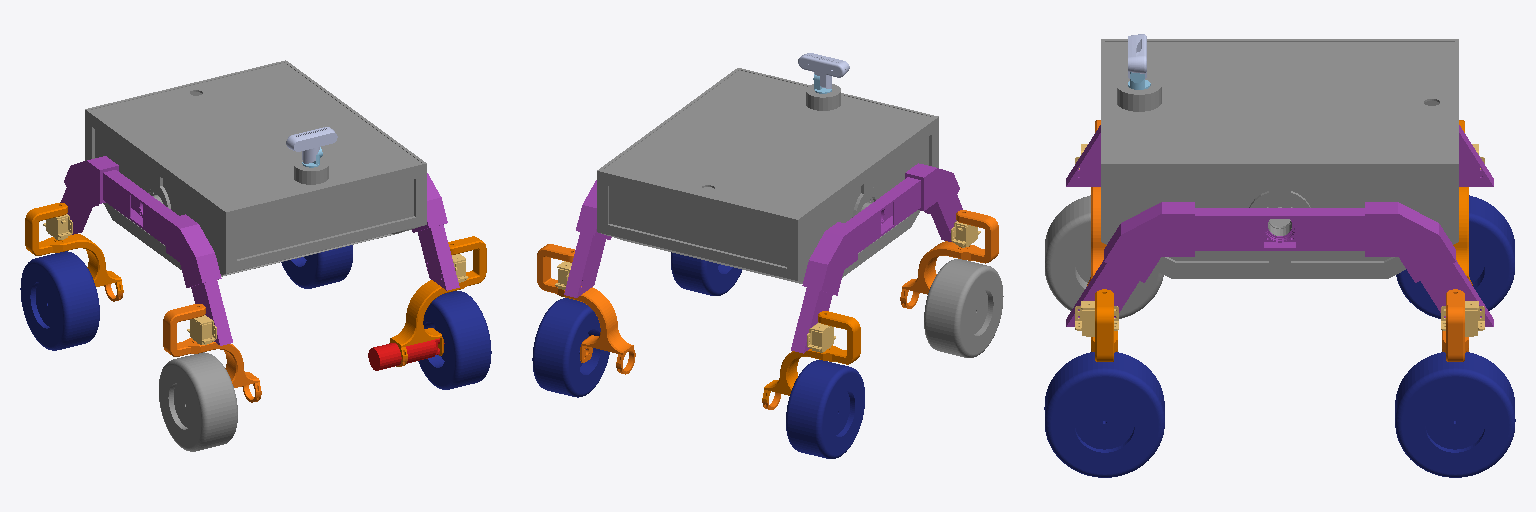
--- Render facts (derived) ---
The picture shows the robot from 3 angles, left to right: view 1: azimuth 30°, elevation 25°; view 2: azimuth 150°, elevation 25°; view 3: azimuth 270°, elevation 25°; orthographic projection.
Robot: rover — 26 links, 25 joints (8 revolute, 4 continuous, 13 fixed); root link base_link; default pose: every joint at zero.
Visible links, largest first — view 1: body, right_rocker, br_whl, fr_whl, fl_whl, fl_steer, br_steer, left_rocker, fr_steer, bl_whl, fl_motor, rs_camera (+2 smaller); view 2: body, right_rocker, fr_whl, br_whl, bl_whl, bl_steer, fr_steer, left_rocker, br_steer, fl_whl, rs_camera, br_servo (+1 smaller); view 3: body, left_rocker, bl_whl, fl_whl, br_whl, fr_whl, right_rocker, fl_steer, bl_steer, fr_steer, br_steer, fl_servo (+2 smaller).
Link boxes in pixels (x1,y1,x2,y2): body: (85, 60, 426, 276); right_rocker: (60, 156, 232, 345); br_whl: (20, 251, 99, 350); fr_whl: (159, 352, 237, 451); fl_whl: (418, 291, 491, 389); fl_steer: (389, 236, 486, 358); br_steer: (25, 203, 123, 292); left_rocker: (412, 173, 459, 290); fr_steer: (163, 304, 261, 393); bl_whl: (281, 245, 352, 288); fl_motor: (368, 338, 444, 370); rs_camera: (286, 127, 337, 163); body: (597, 68, 938, 283); right_rocker: (791, 163, 962, 353); fr_whl: (924, 259, 1003, 357); br_whl: (786, 360, 864, 458); bl_whl: (532, 298, 609, 397); bl_steer: (537, 244, 635, 365); fr_steer: (900, 210, 998, 300); left_rocker: (564, 180, 611, 297); br_steer: (762, 311, 860, 401); fl_whl: (671, 252, 741, 295); rs_camera: (798, 53, 849, 88); br_servo: (807, 322, 835, 352); body: (1101, 39, 1458, 278); left_rocker: (1066, 202, 1493, 326); bl_whl: (1395, 352, 1515, 477); fl_whl: (1044, 352, 1164, 477); br_whl: (1396, 195, 1514, 318); fr_whl: (1045, 195, 1163, 318); right_rocker: (1066, 125, 1493, 186); fl_steer: (1091, 289, 1117, 361); bl_steer: (1442, 289, 1468, 361); fr_steer: (1087, 120, 1106, 285); br_steer: (1453, 120, 1472, 285); fl_servo: (1075, 301, 1118, 336).
Bounding box of the posed robot: 0.6178 × 0.6262 × 0.5061 m (x, y, z).
Meshes: 25 distinct files referenced, 22 mesh visuals loaded (22 binary STL); not drawn: 3 (reference not matched to a file when rendering).

The robot description file, URDF, robot "rover":
<robot name="rover">
<link name="base_link"></link>
<joint name="base_link_to_base" type="fixed">
<parent link="base_link"/>
<child link="body" />
<origin rpy="0.0 0 0" xyz="0 0 0"/>
</joint>
<link name="body">
<visual>
<origin xyz="0.47136771400569088541 -0.60607071399829648417 0.26237109907984434987" rpy="-1.5707963267948952257 -2.20865769322149327e-16 3.1415926535897922278" />
<geometry>
<mesh filename="package://rover_description/rover_desc/parts/body.stl"/>
</geometry>
<material name="body_material">
<color rgba="0.62745098039215685404 0.62745098039215685404 0.62745098039215685404 1.0"/>
</material>
</visual>
<collision>
<origin xyz="0.47136771400569088541 -0.60607071399829648417 0.26237109907984434987" rpy="-1.5707963267948952257 -2.20865769322149327e-16 3.1415926535897922278" />
<geometry>
<mesh filename="package://rover_description/rover_desc/parts/body.stl"/>
</geometry>
</collision>
<inertial>
<origin xyz="0.28136771291347772994 -0.46928583804782286748 0.35945855405890986267" rpy="0 0 0"/>
<mass value="15.306299737924760507" />
<inertia ixx="0.44930929531785673836" ixy="1.9260696911256379374e-10"  ixz="-1.4462254077242153112e-09" iyy="0.3755485581251944982" iyz="0.0061140796338642602534" izz="0.69491924772627433615" />
</inertial>
</link>

<link name="left_rocker">
<visual>
<origin xyz="0.07816000000000011827 0.14200000000000040368 0.01800000000000012701" rpy="-1.570796326794896558 -1.5707963267948950037 0" />
<geometry>
<mesh filename="package://rover_description/rover_desc/parts/left_rocker.stl"/>
</geometry>
<material name="left_rocker_material">
<color rgba="0.68235294117647060652 0.33333333333333331483 0.73725490196078435901 1.0"/>
</material>
</visual>
<collision>
<origin xyz="0.07816000000000011827 0.14200000000000040368 0.01800000000000012701" rpy="-1.570796326794896558 -1.5707963267948950037 0" />
<geometry>
<mesh filename="package://rover_description/rover_desc/parts/left_rocker.stl"/>
</geometry>
</collision>
<inertial>
<origin xyz="0.019843209810583545272 -1.0071465883498831317e-10 -0.012593799220476003045" rpy="0 0 0"/>
<mass value="3.1599156804225110307" />
<inertia ixx="0.091997687781411832675" ixy="3.6592888715037112843e-11"  ixz="6.659101460762155284e-06" iyy="0.004598888821739771475" iyz="3.1871326878887297605e-13" izz="0.095584816217209836453" />
</inertial>
</link>

<link name="fl_servo">
<visual>
<origin xyz="-0.034073937586584723825 -0.077213843876329901761 0.04340000000000010516" rpy="-1.570796326794896558 -1.5707963267948954478 0" />
<geometry>
<mesh filename="package://rover_description/rover_desc/parts/fl_servo.stl"/>
</geometry>
<material name="fl_servo_material">
<color rgba="0.95294117647058818044 0.79607843137254896693 0.48627450980392156188 1.0"/>
</material>
</visual>
<collision>
<origin xyz="-0.034073937586584723825 -0.077213843876329901761 0.04340000000000010516" rpy="-1.570796326794896558 -1.5707963267948954478 0" />
<geometry>
<mesh filename="package://rover_description/rover_desc/parts/fl_servo.stl"/>
</geometry>
</collision>
<inertial>
<origin xyz="0.0079700947515648021963 0.023817007874858658889 -0.01221139744219802703" rpy="0 0 0"/>
<mass value="0.30095826250826990256" />
<inertia ixx="6.1515020750386702544e-05" ixy="4.1386348707447931385e-07"  ixz="1.2153545413687051788e-06" iyy="5.6400683761713585557e-05" iyz="-7.0967198374895875585e-08" izz="9.1372734015628923228e-05" />
</inertial>
</link>

<link name="fl_steer">
<visual>
<origin xyz="0.056900000000000117151 -0.091013843876329714178 0.06867393758658507652" rpy="-1.570796326794901443 9.7218023302443306324e-16 -5.994478756176578597e-19" />
<geometry>
<mesh filename="package://rover_description/rover_desc/parts/fl_steer.stl"/>
</geometry>
<material name="fl_steer_material">
<color rgba="0.97254901960784312376 0.52941176470588235947 0.0039215686274509803377 1.0"/>
</material>
</visual>
<collision>
<origin xyz="0.056900000000000117151 -0.091013843876329714178 0.06867393758658507652" rpy="-1.570796326794901443 9.7218023302443306324e-16 -5.994478756176578597e-19" />
<geometry>
<mesh filename="package://rover_description/rover_desc/parts/fl_steer.stl"/>
</geometry>
</collision>
<inertial>
<origin xyz="0.021796088565620361233 -3.4269795932961866214e-07 -0.022257353183229796473" rpy="0 0 0"/>
<mass value="1.3486655156843314618" />
<inertia ixx="0.0036322882753136651046" ixy="-1.3750609455616861351e-08"  ixz="0.0026697404360839153796" iyy="0.0068253606450100574518" iyz="4.2296529827087859375e-08" izz="0.0034338949276419457324" />
</inertial>
</link>

<link name="fl_motor">
<visual>
<origin xyz="-0.028999999999999998002 0.0029999999999998916422 -0.11825000000000002176" rpy="1.570796326794896558 1.3082735639018536247e-31 2.3166166839792665514e-31" />
<geometry>
<mesh filename="package://rover_description/rover_desc/parts/fl_motor.stl"/>
</geometry>
<material name="fl_motor_material">
<color rgba="0.86666666666666669627 0.13333333333333333148 0.13333333333333333148 1.0"/>
</material>
</visual>
<collision>
<origin xyz="-0.028999999999999998002 0.0029999999999998916422 -0.11825000000000002176" rpy="1.570796326794896558 1.3082735639018536247e-31 2.3166166839792665514e-31" />
<geometry>
<mesh filename="package://rover_description/rover_desc/parts/fl_motor.stl"/>
</geometry>
</collision>
<inertial>
<origin xyz="0.0081633417621368303818 -0.0080748979523885579257 -0.063711508697810795288" rpy="0 0 0"/>
<mass value="1.1669635249832903678" />
<inertia ixx="0.0014435661258087525982" ixy="2.7173683331508127415e-09"  ixz="5.1318365618334379616e-07" iyy="0.001445612962137695235" iyz="-2.4540570541830685958e-07" izz="0.00022941596317910240531" />
</inertial>
</link>

<link name="fl_whl">
<visual>
<origin xyz="-0.18104393758658482438 -0.091013843608109601391 0.050899999999998557509" rpy="-1.57079632679489678 -1.570796326794891451 0" />
<geometry>
<mesh filename="package://rover_description/rover_desc/parts/fl_whl.stl"/>
</geometry>
<material name="fl_whl_material">
<color rgba="0.18823529411764705621 0.2313725490196078538 0.58823529411764707842 1.0"/>
</material>
</visual>
<collision>
<origin xyz="-0.18104393758658482438 -0.091013843608109601391 0.050899999999998557509" rpy="-1.57079632679489678 -1.570796326794891451 0" />
<geometry>
<mesh filename="package://rover_description/rover_desc/parts/fl_whl.stl"/>
</geometry>
</collision>
<inertial>
<origin xyz="-2.160203217361789686e-17 1.1102230246251565404e-16 -0.0070773280698739615691" rpy="0 0 0"/>
<mass value="1.3365750692679565503" />
<inertia ixx="0.0028294242240586753474" ixy="-2.105515765160912049e-19"  ixz="4.2737915832657767856e-18" iyy="0.0028294242240586723117" iyz="8.5401594529778479727e-18" izz="0.0046912485783696085753" />
</inertial>
</link>

<joint name="fl_wheel" type="continuous">
<origin xyz="0.007999999999999840572 -0.0080000000000001181277 0.02349999999999990985" rpy="-3.141592653589793116 -1.5549036287990586881e-16 2.5563346814630962811" />
<parent link="fl_motor" />
<child link="fl_whl" />
<axis xyz="0 0 1"/>
<limit effort="1" velocity="20" />
<joint_properties friction="0.0"/>
</joint>

<joint name="FL_Motor2Mount" type="fixed">
<origin xyz="0.029500000000000803357 -0.0080000002682207860261 -0.10437000000000037914" rpy="-3.1415926535897926719 1.570796326794891451 0" />
<parent link="fl_steer" />
<child link="fl_motor" />
<axis xyz="0 0 1"/>
<limit effort="1" velocity="20" />
<joint_properties friction="0.0"/>
</joint>

<link name="fl_clamp">
<visual>
<origin xyz="-0.047600000000000530775 -0.11250057860073059413 0.18179393758658518587" rpy="-1.5707963267949001107 2.2947746081961748487e-15 -5.9944787561821464605e-19" />
<geometry>
<mesh filename="package://rover_description/rover_desc/parts/fl_clamp.stl"/>
</geometry>
<material name="fl_clamp_material">
<color rgba="1 0.52156862745098042655 0.10196078431372548878 1.0"/>
</material>
</visual>
<collision>
<origin xyz="-0.047600000000000530775 -0.11250057860073059413 0.18179393758658518587" rpy="-1.5707963267949001107 2.2947746081961748487e-15 -5.9944787561821464605e-19" />
<geometry>
<mesh filename="package://rover_description/rover_desc/parts/fl_clamp.stl"/>
</geometry>
</collision>
<inertial>
<origin xyz="-1.0621386895004469864e-09 -0.02148614273903139138 -0.013953120641351908493" rpy="0 0 0"/>
<mass value="0.023562966261883394603" />
<inertia ixx="5.8649646333848643427e-06" ixy="8.0054195219834029265e-12"  ixz="1.2846874940053397286e-12" iyy="1.1647538922670263761e-06" iyz="-1.2018458141571284546e-10" izz="5.1248936208296145517e-06" />
</inertial>
</link>

<joint name="FL_Clamp2Mount" type="fixed">
<origin xyz="0.10450000000000092548 0.021486734724400546881 -0.11162000000000023292" rpy="-1.319148741867446339e-15 -1.3225943751717406021e-15 -5.9944787561891125491e-19" />
<parent link="fl_steer" />
<child link="fl_clamp" />
<axis xyz="0 0 1"/>
<limit effort="1" velocity="20" />
<joint_properties friction="0.0"/>
</joint>

<joint name="FL_Steer2Servo" type="revolute">
<origin xyz="0.034599999999999908606 0.013800000000000367528 -0.013500000000000067502" rpy="-1.570796326794782205 -1.5667839918887109807 1.5707963267950979525" />
<parent link="fl_servo" />
<child link="fl_steer" />
<axis xyz="0 0 1"/>
<limit effort="1" velocity="20" lower="-1.0471975511965976313" upper="1.0471975511965976313"/>
<joint_properties friction="0.0"/>
</joint>

<joint name="FL_Servo2Rocker" type="fixed">
<origin xyz="0.11223393758658459229 0.21921384387633152668 -0.025399999999999589573" rpy="-8.6258250460619437346e-16 1.4251748903082753542e-15 2.3665827156630343653e-30" />
<parent link="left_rocker" />
<child link="fl_servo" />
<axis xyz="0 0 1"/>
<limit effort="1" velocity="20" />
<joint_properties friction="0.0"/>
</joint>

<link name="bl_servo">
<visual>
<origin xyz="-0.034073937586588332049 0.36121384387633082014 0.043400000000000493738" rpy="-1.570796326794896558 -1.5707963267948950037 0" />
<geometry>
<mesh filename="package://rover_description/rover_desc/parts/bl_servo.stl"/>
</geometry>
<material name="bl_servo_material">
<color rgba="0.95294117647058818044 0.79607843137254896693 0.48627450980392156188 1.0"/>
</material>
</visual>
<collision>
<origin xyz="-0.034073937586588332049 0.36121384387633082014 0.043400000000000493738" rpy="-1.570796326794896558 -1.5707963267948950037 0" />
<geometry>
<mesh filename="package://rover_description/rover_desc/parts/bl_servo.stl"/>
</geometry>
</collision>
<inertial>
<origin xyz="0.0079700947515649375047 -0.023817007874858686645 -0.012211397442197985397" rpy="0 0 0"/>
<mass value="0.30095826250826979154" />
<inertia ixx="6.1515020750386743202e-05" ixy="-4.1386348707453161814e-07"  ixz="1.2153545413686098876e-06" iyy="5.6400683761713585557e-05" iyz="7.0967198374668407534e-08" izz="9.137273401562899099e-05" />
</inertial>
</link>

<link name="bl_steer">
<visual>
<origin xyz="0.056900000000000006128 0.3750138438763308546 0.068673937586589045567" rpy="-1.5707963267948947816 1.0259804808888001859e-15 -2.4436268924397289004e-19" />
<geometry>
<mesh filename="package://rover_description/rover_desc/parts/bl_steer.stl"/>
</geometry>
<material name="bl_steer_material">
<color rgba="1 0.52156862745098042655 0.10196078431372548878 1.0"/>
</material>
</visual>
<collision>
<origin xyz="0.056900000000000006128 0.3750138438763308546 0.068673937586589045567" rpy="-1.5707963267948947816 1.0259804808888001859e-15 -2.4436268924397289004e-19" />
<geometry>
<mesh filename="package://rover_description/rover_desc/parts/bl_steer.stl"/>
</geometry>
</collision>
<inertial>
<origin xyz="0.021796088565502191869 4.2836195762729900594e-07 -0.022257353183248035355" rpy="0 0 0"/>
<mass value="1.3486655156810449796" />
<inertia ixx="0.0036322882752310740526" ixy="8.9151877740377827898e-09"  ixz="0.0026697404360826520672" iyy="0.0068253606450098848468" iyz="-3.3253112102164279405e-08" izz="0.0034338949275451989031" />
</inertial>
</link>

<link name="bl_motor">
<visual>
<origin xyz="-0.029000000000000011879 0.0030000000000000026645 -0.11825000000000002176" rpy="1.570796326794896558 2.9971166839778787761e-31 7.9663902531419949807e-31" />
<geometry>
<mesh filename="package://rover_description/rover_desc/parts/bl_motor.stl"/>
</geometry>
<material name="bl_motor_material">
<color rgba="0.86666666666666669627 0.13333333333333333148 0.13333333333333333148 1.0"/>
</material>
</visual>
<collision>
<origin xyz="-0.029000000000000011879 0.0030000000000000026645 -0.11825000000000002176" rpy="1.570796326794896558 2.9971166839778787761e-31 7.9663902531419949807e-31" />
<geometry>
<mesh filename="package://rover_description/rover_desc/parts/bl_motor.stl"/>
</geometry>
</collision>
<inertial>
<origin xyz="0.0081633417621368095651 -0.0080748979523884486381 -0.063711508697810795288" rpy="0 0 0"/>
<mass value="1.1669635249832905899" />
<inertia ixx="0.0014435661258087525982" ixy="2.717368333151023259e-09"  ixz="5.1318365618334316088e-07" iyy="0.0014456129621376954519" iyz="-2.4540570541830273029e-07" izz="0.0002294159631791023782" />
</inertial>
</link>

<link name="bl_whl">
<visual>
<origin xyz="-0.18104393758658793301 0.37501384414455318783 0.050899999999998557509" rpy="-1.570796326794896558 -1.5707963267948921171 0" />
<geometry>
<mesh filename="package://rover_description/rover_desc/parts/bl_whl.stl"/>
</geometry>
<material name="bl_whl_material">
<color rgba="0.18823529411764705621 0.2313725490196078538 0.58823529411764707842 1.0"/>
</material>
</visual>
<collision>
<origin xyz="-0.18104393758658793301 0.37501384414455318783 0.050899999999998557509" rpy="-1.570796326794896558 -1.5707963267948921171 0" />
<geometry>
<mesh filename="package://rover_description/rover_desc/parts/bl_whl.stl"/>
</geometry>
</collision>
<inertial>
<origin xyz="-1.9588095409920598454e-18 -1.1102230246251565404e-16 -0.0070773280698739138642" rpy="0 0 0"/>
<mass value="1.3365750692679561062" />
<inertia ixx="0.0028294242240586740464" ixy="-2.9773130229605206514e-19"  ixz="1.9080636541646461541e-18" iyy="0.002829424224058671878" iyz="8.358251220424872002e-18" izz="0.004691248578369607708" />
</inertial>
</link>

<joint name="bl_wheel" type="continuous">
<origin xyz="0.0079999999999999793499 -0.0079999999999999793499 0.023499999999999965361" rpy="3.141592653589793116 -8.3323822686780798524e-16 2.5563346814631509041" />
<parent link="bl_motor" />
<child link="bl_whl" />
<axis xyz="0 0 1"/>
<limit effort="1" velocity="20" />
<joint_properties friction="0.0"/>
</joint>

<joint name="BL_Motor2Mount" type="fixed">
<origin xyz="0.029500000000000137224 -0.0080000002682207582705 -0.10436999999999960198" rpy="-3.1415926535897922278 1.5707963267948943376 0" />
<parent link="bl_steer" />
<child link="bl_motor" />
<axis xyz="0 0 1"/>
<limit effort="1" velocity="20" />
<joint_properties friction="0.0"/>
</joint>

<link name="bl_clamp">
<visual>
<origin xyz="-0.047599999999999975664 0.3535271091519306963 0.18179393758658765612" rpy="-1.5707963267948972241 2.2462499910870149937e-15 -2.2080949860496520738e-19" />
<geometry>
<mesh filename="package://rover_description/rover_desc/parts/bl_clamp.stl"/>
</geometry>
<material name="bl_clamp_material">
<color rgba="1 0.52156862745098042655 0.10196078431372548878 1.0"/>
</material>
</visual>
<collision>
<origin xyz="-0.047599999999999975664 0.3535271091519306963 0.18179393758658765612" rpy="-1.5707963267948972241 2.2462499910870149937e-15 -2.2080949860496520738e-19" />
<geometry>
<mesh filename="package://rover_description/rover_desc/parts/bl_clamp.stl"/>
</geometry>
</collision>
<inertial>
<origin xyz="-1.0621386270504018512e-09 -0.021486142739031433013 -0.013953120641352026454" rpy="0 0 0"/>
<mass value="0.023562966261883144803" />
<inertia ixx="5.8649646333847804864e-06" ixy="8.0054195353529147564e-12"  ixz="1.2846874971539793042e-12" iyy="1.1647538922670102825e-06" iyz="-1.2018458138790484272e-10" izz="5.1248936208295408598e-06" />
</inertial>
</link>

<joint name="BL_Clamp2Mount" type="fixed">
<origin xyz="0.10450000000000025935 0.021486734724400713414 -0.11161999999999935862" rpy="2.3752763451047639636e-15 5.6655398768714862149e-18 -2.4436268925127038305e-19" />
<parent link="bl_steer" />
<child link="bl_clamp" />
<axis xyz="0 0 1"/>
<limit effort="1" velocity="20" />
<joint_properties friction="0.0"/>
</joint>

<joint name="BL_Steer2Servo" type="revolute">
<origin xyz="0.03460000000000007514 -0.013800000000000200995 -0.013500000000000067502" rpy="-1.5707963267949409669 -1.5667839918887132011 1.5707963267953157782" />
<parent link="bl_servo" />
<child link="bl_steer" />
<axis xyz="0 0 1"/>
<limit effort="1" velocity="20" lower="-1.0471975511965976313" upper="1.0471975511965976313"/>
<joint_properties friction="0.0"/>
</joint>

<joint name="BL_Servo2Rocker" type="fixed">
<origin xyz="0.1122339375865883393 -0.21921384387633072177 -0.025400000000000144684" rpy="-2.8593633873272218744e-15 1.3713746424438989625e-15 1.5777218104420229102e-30" />
<parent link="left_rocker" />
<child link="bl_servo" />
<axis xyz="0 0 1"/>
<limit effort="1" velocity="20" />
<joint_properties friction="0.0"/>
</joint>

<joint name="l_rocker2body" type="revolute">
<origin xyz="0.48936771400569123447 -0.46407071399829596947 0.34053109907984413507" rpy="3.1415926535897926719 1.5707963267948905628 0" />
<parent link="body" />
<child link="left_rocker" />
<axis xyz="0 0 1"/>
<limit effort="1" velocity="20" lower="-0.52359877559829881566" upper="0.52359877559829881566"/>
<joint_properties friction="0.0"/>
</joint>

<link name="right_rocker">
<visual>
<origin xyz="0.078160000000000673381 -0.14199999999999990408 0.39800000000000018696" rpy="1.570796326794896558 1.5707963267948945596 0" />
<geometry>
<mesh filename="package://rover_description/rover_desc/parts/right_rocker.stl"/>
</geometry>
<material name="right_rocker_material">
<color rgba="0.68235294117647060652 0.33333333333333331483 0.73725490196078435901 1.0"/>
</material>
</visual>
<collision>
<origin xyz="0.078160000000000673381 -0.14199999999999990408 0.39800000000000018696" rpy="1.570796326794896558 1.5707963267948945596 0" />
<geometry>
<mesh filename="package://rover_description/rover_desc/parts/right_rocker.stl"/>
</geometry>
</collision>
<inertial>
<origin xyz="0.019749845958477070529 -1.0151612883646521368e-10 -0.012563787207807264323" rpy="0 0 0"/>
<mass value="3.1748536151173394337" />
<inertia ixx="0.092000731965220308717" ixy="3.6644811423396804473e-11"  ixz="8.5409407367579439312e-06" iyy="0.0046077871870401935703" iyz="3.3376102675498324272e-13" izz="0.095595491905617571704" />
</inertial>
</link>

<link name="fr_servo">
<visual>
<origin xyz="-0.034073937586587582649 0.077213843876329457672 0.42340000000000016511" rpy="1.570796326794896558 1.5707963267948947816 0" />
<geometry>
<mesh filename="package://rover_description/rover_desc/parts/fr_servo.stl"/>
</geometry>
<material name="fr_servo_material">
<color rgba="0.95294117647058818044 0.79607843137254896693 0.48627450980392156188 1.0"/>
</material>
</visual>
<collision>
<origin xyz="-0.034073937586587582649 0.077213843876329457672 0.42340000000000016511" rpy="1.570796326794896558 1.5707963267948947816 0" />
<geometry>
<mesh filename="package://rover_description/rover_desc/parts/fr_servo.stl"/>
</geometry>
</collision>
<inertial>
<origin xyz="0.0079700947515648611769 -0.0238170078748587144 -0.012211397442197846619" rpy="0 0 0"/>
<mass value="0.30095826250826984705" />
<inertia ixx="6.1515020750386607677e-05" ixy="-4.1386348707453982377e-07"  ixz="1.2153545413685702888e-06" iyy="5.6400683761713389045e-05" iyz="7.0967198374693275892e-08" izz="9.137273401562877415e-05" />
</inertial>
</link>

<link name="fr_steer">
<visual>
<origin xyz="-0.43690000000000012159 -0.091013843876329936222 0.068673937586587685544" rpy="-1.5707963267948976682 -1.6286182669569800446e-15 1.039908877076555856e-29" />
<geometry>
<mesh filename="package://rover_description/rover_desc/parts/fr_steer.stl"/>
</geometry>
<material name="fr_steer_material">
<color rgba="1 0.52156862745098042655 0.10196078431372548878 1.0"/>
</material>
</visual>
<collision>
<origin xyz="-0.43690000000000012159 -0.091013843876329936222 0.068673937586587685544" rpy="-1.5707963267948976682 -1.6286182669569800446e-15 1.039908877076555856e-29" />
<geometry>
<mesh filename="package://rover_description/rover_desc/parts/fr_steer.stl"/>
</geometry>
</collision>
<inertial>
<origin xyz="-0.021796088565566196227 -4.2836189804995589405e-07 -0.022257353183248274747" rpy="0 0 0"/>
<mass value="1.3486655156810423151" />
<inertia ixx="0.0036322882752310632105" ixy="8.9151874335825544192e-09"  ixz="-0.0026697404360826663787" iyy="0.0068253606450099082656" iyz="3.3253111821828263331e-08" izz="0.0034338949275452279597" />
</inertial>
</link>

<link name="fr_motor">
<visual>
<origin xyz="-0.045000000000000012212 0.0029999999999998916422 -0.11825000000000000788" rpy="1.570796326794896558 -8.6267442529700826822e-32 3.5726000465523350071e-32" />
<geometry>
<mesh filename="package://rover_description/rover_desc/parts/fr_motor.stl"/>
</geometry>
<material name="fr_motor_material">
<color rgba="0.86666666666666669627 0.13333333333333333148 0.13333333333333333148 1.0"/>
</material>
</visual>
<collision>
<origin xyz="-0.045000000000000012212 0.0029999999999998916422 -0.11825000000000000788" rpy="1.570796326794896558 -8.6267442529700826822e-32 3.5726000465523350071e-32" />
<geometry>
<mesh filename="package://rover_description/rover_desc/parts/fr_motor.stl"/>
</geometry>
</collision>
<inertial>
<origin xyz="-0.007836658237863183829 -0.0080748979523885579257 -0.06371150869781078141" rpy="0 0 0"/>
<mass value="1.1669635249832903678" />
<inertia ixx="0.0014435661258087528151" ixy="2.7173683331509355778e-09"  ixz="5.1318365618334549022e-07" iyy="0.0014456129621376954519" iyz="-2.4540570541830712428e-07" izz="0.00022941596317910245952" />
</inertial>
</link>

<link name="fr_whl">
<visual>
<origin xyz="-0.18104393758658599012 0.091013844144441913286 0.43089999999992534274" rpy="1.570796326794896558 1.5707963267944513586 0" />
<geometry>
<mesh filename="package://rover_description/rover_desc/parts/fr_whl.stl"/>
</geometry>
<material name="fr_whl_material">
<color rgba="0.62745098039215685404 0.62745098039215685404 0.62745098039215685404 1.0"/>
</material>
</visual>
<collision>
<origin xyz="-0.18104393758658599012 0.091013844144441913286 0.43089999999992534274" rpy="1.570796326794896558 1.5707963267944513586 0" />
<geometry>
<mesh filename="package://rover_description/rover_desc/parts/fr_whl.stl"/>
</geometry>
</collision>
<inertial>
<origin xyz="-6.5576083893231391695e-17 -4.1633363423443370266e-17 -0.0070773280698740448358" rpy="0 0 0"/>
<mass value="1.336575069267954996" />
<inertia ixx="0.002829424224058671878" ixy="7.1109985263902257674e-22"  ixz="8.6557311137229904229e-18" iyy="0.002829424224058671878" iyz="1.8882944949949970548e-18" izz="0.004691248578369607708" />
</inertial>
</link>

<joint name="fr_wheel" type="continuous">
<origin xyz="-0.0080000000000000209832 -0.0080000000000000071054 0.023499999999999993117" rpy="3.141592653589793116 -1.8224676562929402707e-19 3.1378367530413773245" />
<parent link="fr_motor" />
<child link="fr_whl" />
<axis xyz="0 0 1"/>
<limit effort="1" velocity="20" />
<joint_properties friction="0.0"/>
</joint>

<joint name="FR_Motor2Mount" type="fixed">
<origin xyz="-0.029500000000063843208 -0.0079999997317199422753 -0.10436999999999975464" rpy="-3.1415926535896825378 -1.5707963267948925612 0" />
<parent link="fr_steer" />
<child link="fr_motor" />
<axis xyz="0 0 1"/>
<limit effort="1" velocity="20" />
<joint_properties friction="0.0"/>
</joint>

<link name="fr_clamp">
<visual>
<origin xyz="-0.33239999999993369295 -0.1125005791372231112 0.18179393758658574098" rpy="-1.5707963267948976682 -5.5927484865492402719e-15 -1.7597518320680406509e-29" />
<geometry>
<mesh filename="package://rover_description/rover_desc/parts/fr_clamp.stl"/>
</geometry>
<material name="fr_clamp_material">
<color rgba="1 0.52156862745098042655 0.10196078431372548878 1.0"/>
</material>
</visual>
<collision>
<origin xyz="-0.33239999999993369295 -0.1125005791372231112 0.18179393758658574098" rpy="-1.5707963267948976682 -5.5927484865492402719e-15 -1.7597518320680406509e-29" />
<geometry>
<mesh filename="package://rover_description/rover_desc/parts/fr_clamp.stl"/>
</geometry>
</collision>
<inertial>
<origin xyz="1.0621408752520267171e-09 -0.021487327246212023502 -0.013953120641351839104" rpy="0 0 0"/>
<mass value="0.023562966261883321745" />
<inertia ixx="5.8649646333849312583e-06" ixy="8.0054200433861054132e-12"  ixz="-1.2846874875787235375e-12" iyy="1.1647538922670323054e-06" iyz="1.2018458145445286717e-10" izz="5.1248936208296628326e-06" />
</inertial>
</link>

<joint name="FR_Clamp2Mount" type="fixed">
<origin xyz="-0.10450000000006715029 0.021486735260893286004 -0.11161999999999931699" rpy="8.9108132427900367335e-17 3.9641302195922338005e-15 2.3390256617635499543e-29" />
<parent link="fr_steer" />
<child link="fr_clamp" />
<axis xyz="0 0 1"/>
<limit effort="1" velocity="20" />
<joint_properties friction="0.0"/>
</joint>

<joint name="FR_Steer2Servo" type="revolute">
<origin xyz="0.034599999999999936362 -0.013800000000000256506 -0.013499999999999935663" rpy="-3.1415926535897922278 1.57079632679478709 0" />
<parent link="fr_servo" />
<child link="fr_steer" />
<axis xyz="0 0 1"/>
<limit effort="1" velocity="20" lower="-1.0471975511965976313" upper="1.0471975511965976313"/>
<joint_properties friction="0.0"/>
</joint>

<joint name="FR_Servo2Rocker" type="fixed">
<origin xyz="0.11223393758658806174 -0.2192138438763301389 -0.025400000000000623468" rpy="-1.8086911015910886248e-16 -2.0555539217397211788e-17 2.2309972475781771651e-30" />
<parent link="right_rocker" />
<child link="fr_servo" />
<axis xyz="0 0 1"/>
<limit effort="1" velocity="20" />
<joint_properties friction="0.0"/>
</joint>

<link name="br_servo">
<visual>
<origin xyz="-0.034073937586584668313 -0.361213843876330154 0.42339999999999994307" rpy="1.570796326794896558 1.5707963267948950037 0" />
<geometry>
<mesh filename="package://rover_description/rover_desc/parts/br_servo.stl"/>
</geometry>
<material name="br_servo_material">
<color rgba="0.95294117647058818044 0.79607843137254896693 0.48627450980392156188 1.0"/>
</material>
</visual>
<collision>
<origin xyz="-0.034073937586584668313 -0.361213843876330154 0.42339999999999994307" rpy="1.570796326794896558 1.5707963267948950037 0" />
<geometry>
<mesh filename="package://rover_description/rover_desc/parts/br_servo.stl"/>
</geometry>
</collision>
<inertial>
<origin xyz="0.0079700947515644344349 0.023817007874807727408 -0.012211397442186688878" rpy="0 0 0"/>
<mass value="0.3009582625082701246" />
<inertia ixx="6.1515020750379262207e-05" ixy="4.1386348710015870584e-07"  ixz="1.2153545413628290995e-06" iyy="5.6400683761704505364e-05" iyz="-7.0967198391542243521e-08" izz="9.13727340156298448e-05" />
</inertial>
</link>

<link name="br_steer">
<visual>
<origin xyz="-0.43689999999998407887 0.3750138438762686266 0.068673937586585825921" rpy="-1.5707963267948921171 -1.574818019091989919e-15 2.0210191123755784599e-33" />
<geometry>
<mesh filename="package://rover_description/rover_desc/parts/br_steer.stl"/>
</geometry>
<material name="br_steer_material">
<color rgba="0.97254901960784312376 0.52941176470588235947 0.0039215686274509803377 1.0"/>
</material>
</visual>
<collision>
<origin xyz="-0.43689999999998407887 0.3750138438762686266 0.068673937586585825921" rpy="-1.5707963267948921171 -1.574818019091989919e-15 2.0210191123755784599e-33" />
<geometry>
<mesh filename="package://rover_description/rover_desc/parts/br_steer.stl"/>
</geometry>
</collision>
<inertial>
<origin xyz="-0.021796088565727067543 3.426979134357743817e-07 -0.022257353183423360388" rpy="0 0 0"/>
<mass value="1.3486655156891964591" />
<inertia ixx="0.003632288275326889769" ixy="-1.375061166338354041e-08"  ixz="-0.0026697404360926948151" iyy="0.0068253606450268296257" iyz="-4.229653342785191071e-08" izz="0.0034338949276469890072" />
</inertial>
</link>

<link name="br_motor">
<visual>
<origin xyz="-0.044999999999999991396 0.0030000000000000026645 -0.11825000000000000788" rpy="1.570796326794896558 -8.2798937018038954216e-32 2.6288943740268322258e-32" />
<geometry>
<mesh filename="package://rover_description/rover_desc/parts/br_motor.stl"/>
</geometry>
<material name="br_motor_material">
<color rgba="0.86666666666666669627 0.13333333333333333148 0.13333333333333333148 1.0"/>
</material>
</visual>
<collision>
<origin xyz="-0.044999999999999991396 0.0030000000000000026645 -0.11825000000000000788" rpy="1.570796326794896558 -8.2798937018038954216e-32 2.6288943740268322258e-32" />
<geometry>
<mesh filename="package://rover_description/rover_desc/parts/br_motor.stl"/>
</geometry>
</collision>
<inertial>
<origin xyz="-0.0078366582378631699513 -0.0080748979523884469034 -0.06371150869781078141" rpy="0 0 0"/>
<mass value="1.1669635249832905899" />
<inertia ixx="0.0014435661258087528151" ixy="2.7173683331508185318e-09"  ixz="5.1318365618334580786e-07" iyy="0.001445612962137695235" iyz="-2.4540570541830791837e-07" izz="0.00022941596317910245952" />
</inertial>
</link>

<link name="br_whl">
<visual>
<origin xyz="-0.18104393758658476887 -0.37501384360837108911 0.43089999999995631796" rpy="1.570796326794896558 1.5707963267944542451 0" />
<geometry>
<mesh filename="package://rover_description/rover_desc/parts/br_whl.stl"/>
</geometry>
<material name="br_whl_material">
<color rgba="0.18823529411764705621 0.2313725490196078538 0.58823529411764707842 1.0"/>
</material>
</visual>
<collision>
<origin xyz="-0.18104393758658476887 -0.37501384360837108911 0.43089999999995631796" rpy="1.570796326794896558 1.5707963267944542451 0" />
<geometry>
<mesh filename="package://rover_description/rover_desc/parts/br_whl.stl"/>
</geometry>
</collision>
<inertial>
<origin xyz="-5.0848536915078215196e-17 -5.5511151231257827021e-16 -0.0070773280698739338135" rpy="0 0 0"/>
<mass value="1.3365750692679554401" />
<inertia ixx="0.0028294242240586714443" ixy="4.6109555329048802265e-23"  ixz="9.2370861885585261927e-19" iyy="0.0028294242240586714443" iyz="7.8547223642063557193e-19" izz="0.004691248578369607708" />
</inertial>
</link>

<joint name="br_wheel" type="continuous">
<origin xyz="-0.0079999999999999793499 -0.0079999999999999515943 0.023500000000000048628" rpy="-3.141592653589793116 3.0906425375545166838e-19 3.1378367530413608932" />
<parent link="br_motor" />
<child link="br_whl" />
<axis xyz="0 0 1"/>
<limit effort="1" velocity="20" />
<joint_properties friction="0.0"/>
</joint>

<joint name="BR_Motor2Mount" type="fixed">
<origin xyz="-0.029499999999998874345 -0.0079999997317824478316 -0.10437000000000018485" rpy="-3.1415926535896829819 -1.5707963267948921171 0" />
<parent link="br_steer" />
<child link="br_motor" />
<axis xyz="0 0 1"/>
<limit effort="1" velocity="20" />
<joint_properties friction="0.0"/>
</joint>

<link name="br_clamp">
<visual>
<origin xyz="-0.33239999999998193214 0.35352710861543823473 0.18179393758658540792" rpy="-1.5707963267948934494 -1.4953316362921739678e-15 -1.2160441426042364703e-31" />
<geometry>
<mesh filename="package://rover_description/rover_desc/parts/br_clamp.stl"/>
</geometry>
<material name="br_clamp_material">
<color rgba="1 0.52156862745098042655 0.10196078431372548878 1.0"/>
</material>
</visual>
<collision>
<origin xyz="-0.33239999999998193214 0.35352710861543823473 0.18179393758658540792" rpy="-1.5707963267948934494 -1.4953316362921739678e-15 -1.2160441426042364703e-31" />
<geometry>
<mesh filename="package://rover_description/rover_desc/parts/br_clamp.stl"/>
</geometry>
</collision>
<inertial>
<origin xyz="1.0621408752520267171e-09 -0.021487327246211943704 -0.013953120641351891146" rpy="0 0 0"/>
<mass value="0.023562966261883578484" />
<inertia ixx="5.8649646333849685278e-06" ixy="8.0054200309620513299e-12"  ixz="-1.284687488006020687e-12" iyy="1.1647538922670395051e-06" iyz="1.2018458145652190437e-10" izz="5.1248936208297043372e-06" />
</inertial>
</link>

<joint name="BR_Clamp2Mount" type="fixed">
<origin xyz="-0.10450000000000211897 0.021486735260830780447 -0.11162000000000006639" rpy="1.5335943662104016877e-15 -7.9486382799816974253e-17 -1.1102230246251407632e-16" />
<parent link="br_steer" />
<child link="br_clamp" />
<axis xyz="0 0 1"/>
<limit effort="1" velocity="20" />
<joint_properties friction="0.0"/>
</joint>

<joint name="BR_Steer2Servo" type="revolute">
<origin xyz="0.034599999999999520028 0.013799999999938333817 -0.013499999999985141941" rpy="3.1415926535897886751 1.5707963267948941155 0" />
<parent link="br_servo" />
<child link="br_steer" />
<axis xyz="0 0 1"/>
<limit effort="1" velocity="20" lower="-1.0471975511965976313" upper="1.0471975511965976313"/>
<joint_properties friction="0.0"/>
</joint>

<joint name="BR_Servo2Rocker" type="fixed">
<origin xyz="0.11223393758658464781 0.21921384387633197077 -0.02539999999999998509" rpy="3.777004274552910873e-16 1.8314944689513888338e-16 1.4421363423571653597e-30" />
<parent link="right_rocker" />
<child link="br_servo" />
<axis xyz="0 0 1"/>
<limit effort="1" velocity="20" />
<joint_properties friction="0.0"/>
</joint>

<joint name="r_rocker2body" type="revolute">
<origin xyz="0.073367714005690420898 -0.46407071399829624703 0.34053109907984419058" rpy="-8.8817841969997564459e-16 1.5707963267948910069 0" />
<parent link="body" />
<child link="right_rocker" />
<axis xyz="0 0 1"/>
<limit effort="1" velocity="20" lower="-0.52359877559829881566" upper="0.52359877559829881566"/>
<joint_properties friction="0.0"/>
</joint>

<link name="yaw">
<visual>
<origin xyz="0 0.014949999999999685762 -0.045000000000000039968" rpy="-1.570796326794896558 -2.8024722664946161458e-33 -7.6967293517626896759e-33" />
<geometry>
<mesh filename="package://rover_description/rover_desc/parts/yaw.stl"/>
</geometry>
<material name="yaw_material">
<color rgba="0.61568627450980395466 0.81176470588235294379 0.92941176470588238168 1.0"/>
</material>
</visual>
<collision>
<origin xyz="0 0.014949999999999685762 -0.045000000000000039968" rpy="-1.570796326794896558 -2.8024722664946161458e-33 -7.6967293517626896759e-33" />
<geometry>
<mesh filename="package://rover_description/rover_desc/parts/yaw.stl"/>
</geometry>
</collision>
<inertial>
<origin xyz="0.0018483419382179196774 0.00061441112827633631317 -0.021362605428965342202" rpy="0 0 0"/>
<mass value="0.20900244228670239455" />
<inertia ixx="5.4617141696043491471e-05" ixy="-5.6045430452277191488e-07"  ixz="7.4931842185399663797e-06" iyy="5.6232986633136111676e-05" iyz="2.6766697427395955691e-06" izz="2.19764097959384594e-05" />
</inertial>
</link>

<link name="rs_camera">
<visual>
<origin xyz="0 0.012499386093192565994 0.0050000000000000044409" rpy="-1.570796326794896558 -1.570796326794896558 0" />
<geometry>
<mesh filename="package://rover_description/rover_desc/parts/rs_camera.stl"/>
</geometry>
<material name="rs_camera_material">
<color rgba="0.79607843137254896693 0.82352941176470584317 0.9372549019607843146 1.0"/>
</material>
</visual>
<collision>
<origin xyz="0 0.012499386093192565994 0.0050000000000000044409" rpy="-1.570796326794896558 -1.570796326794896558 0" />
<geometry>
<mesh filename="package://rover_description/rover_desc/parts/rs_camera.stl"/>
</geometry>
</collision>
<inertial>
<origin xyz="0.021951005179074535578 -0.00060697326592570877146 0.0042912995263516091546" rpy="0 0 0"/>
<mass value="0.42211195681296004301" />
<inertia ixx="0.00023666677548689538904" ixy="-4.7722365076488969037e-07"  ixz="-9.2181790012646372905e-06" iyy="0.00027025273344828606038" iyz="-1.1034995949195467077e-06" izz="7.4654268679637193935e-05" />
</inertial>
</link>

<joint name="rs_pitch" type="revolute">
<origin xyz="-0.0050000000000000044409 0.0024506139068071197684 -0.045000000000000039968" rpy="1.1102230246251549627e-15 1.5707963267948950037 0" />
<parent link="yaw" />
<child link="rs_camera" />
<axis xyz="0 0 1"/>
<limit effort="1" velocity="20" lower="-0.785398163397448279" upper="0.785398163397448279"/>
<joint_properties friction="0.0"/>
</joint>

<joint name="rs_yaw" type="revolute">
<origin xyz="0.28136771400569077217 -0.651070713998295858 0.42390609907984444504" rpy="3.1415926535897917837 9.8401089407414351406e-17 -1.1102230246251557516e-15" />
<parent link="body" />
<child link="yaw" />
<axis xyz="0 0 1"/>
<limit effort="1" velocity="20" lower="-1.570796326794896558" upper="1.570796326794896558"/>
<joint_properties friction="0.0"/>
</joint>


</robot>
